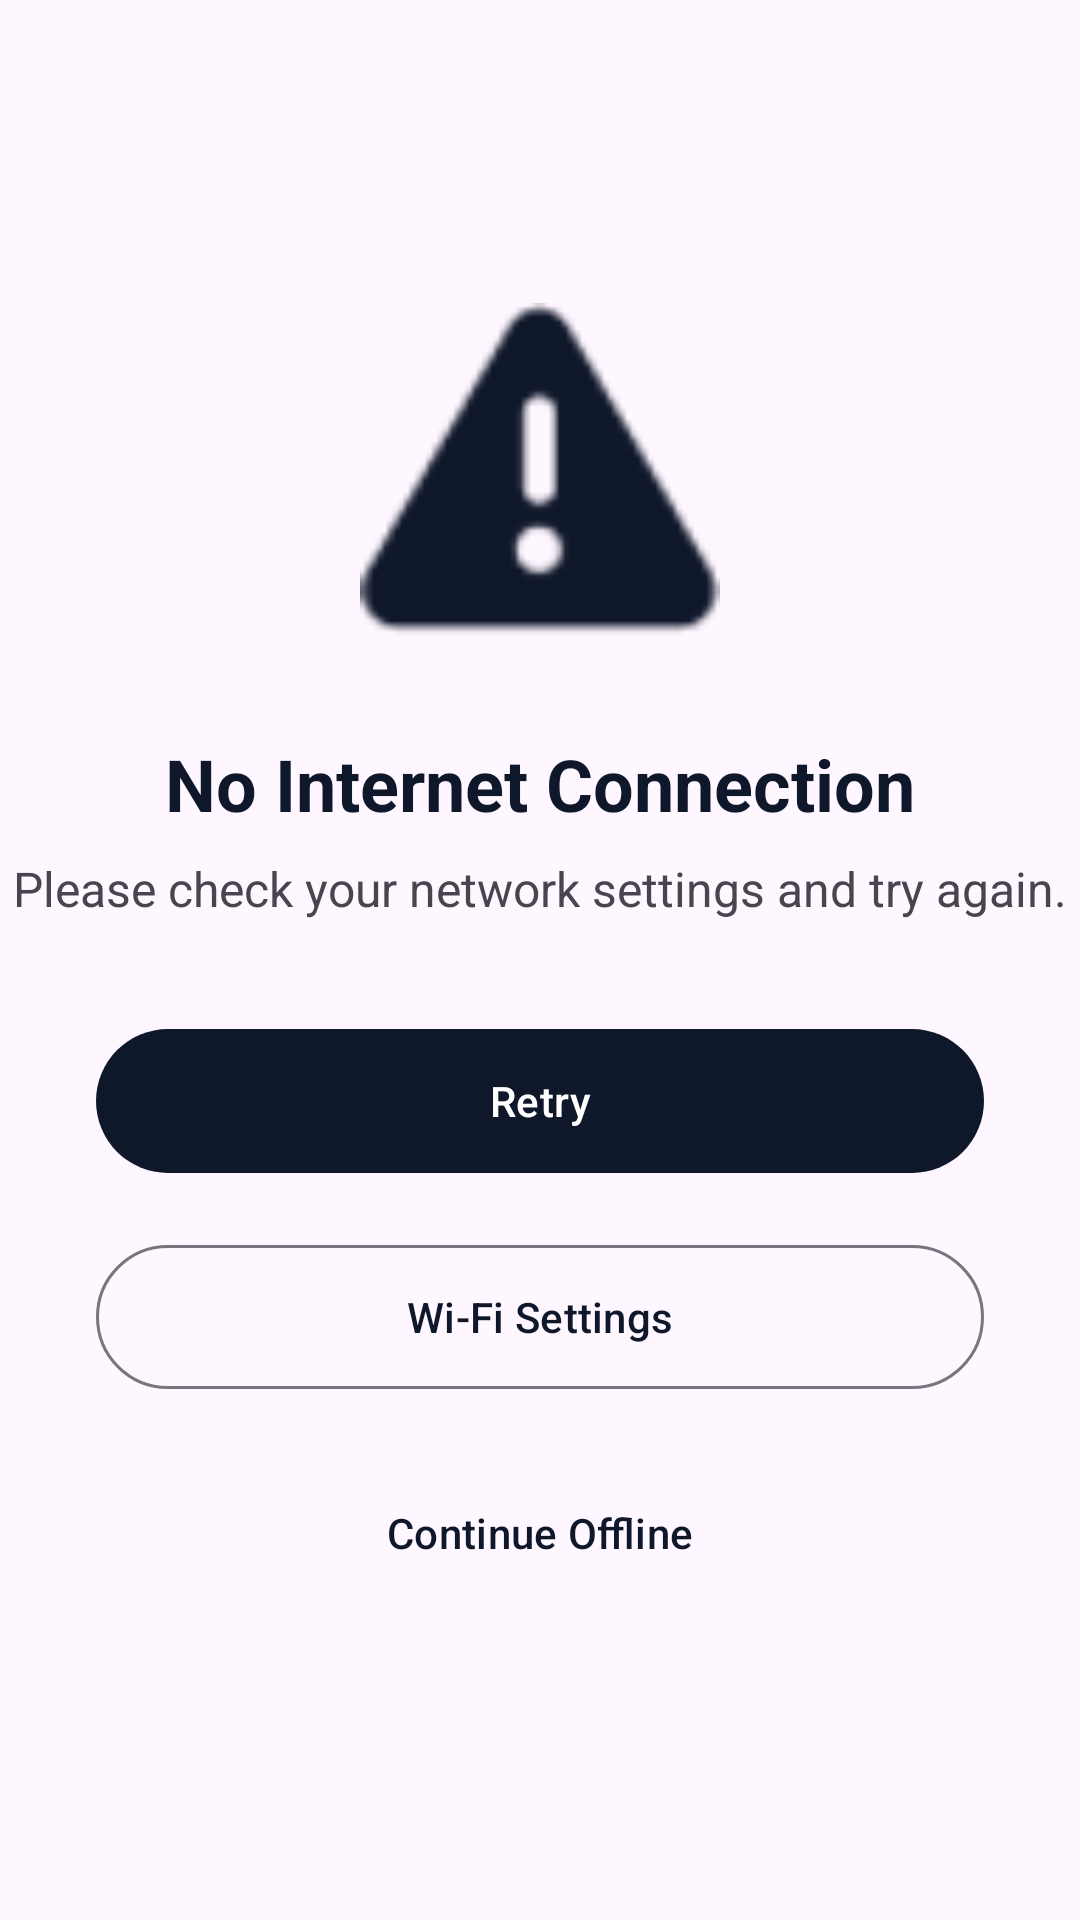

Icons on this 1080 x 1920 Android screen, each with the point to tap as (x=x, y=y):
alert: (x=540, y=467)
